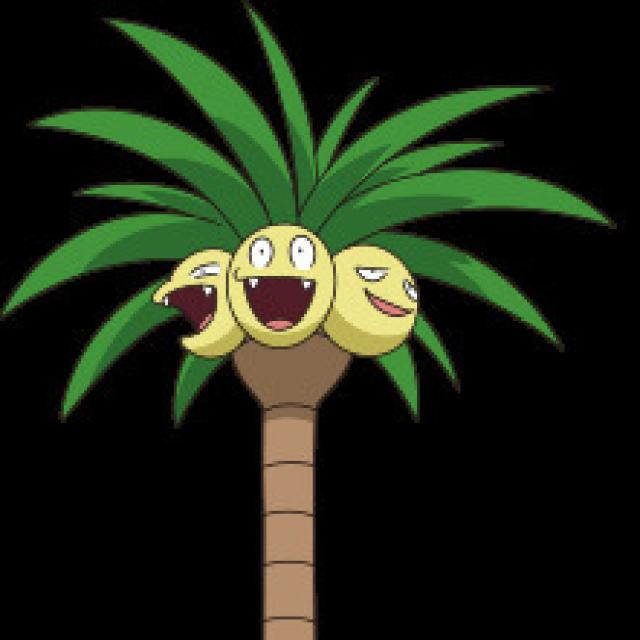Exeggutor: (159, 168, 429, 640)
